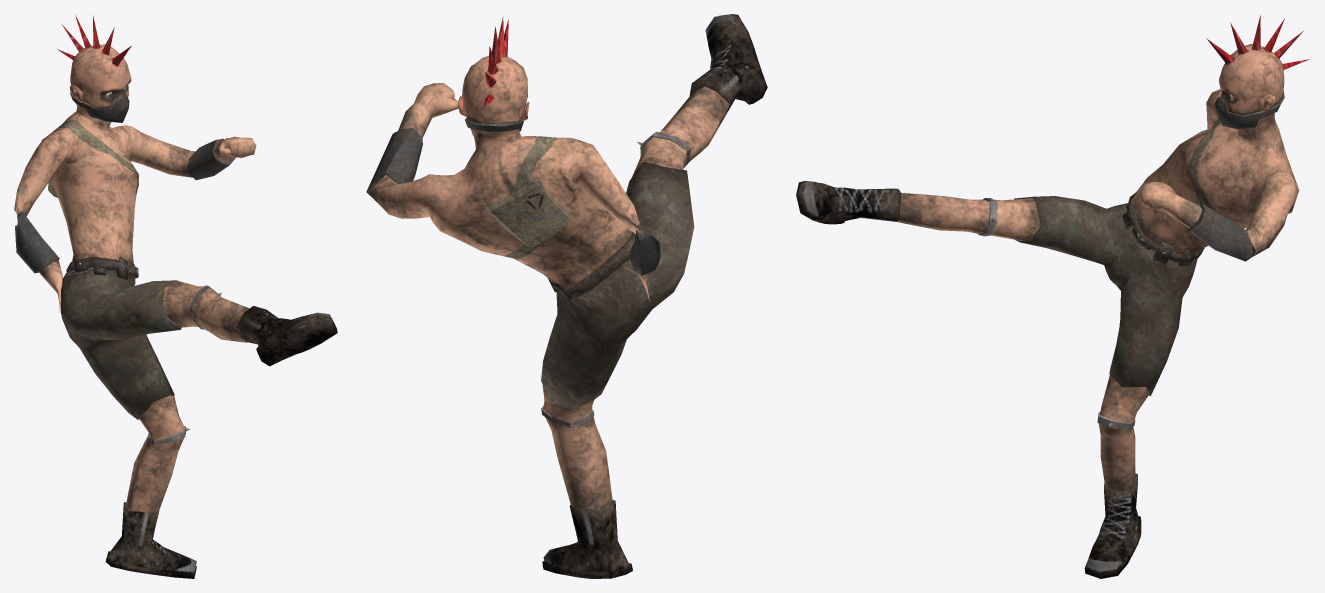
Rendered from Anim_ataque_f2_npc2.0017.obj.
The picture shows the model from 3 angles, left to right: view 1: azimuth 30°, elevation 25°; view 2: azimuth 150°, elevation 25°; view 3: azimuth 270°, elevation 25°; orthographic projection. The views are drawn at different scales.
Visible parts, largest first — view 1: polySurface1; view 2: polySurface1; view 3: polySurface1.
Part boxes in pixels (left/top/right/bottom): polySurface1: left=14, top=15, right=337, bottom=578; polySurface1: left=366, top=14, right=767, bottom=578; polySurface1: left=796, top=15, right=1309, bottom=578.
Bounding box in the file's own units: 4.34 × 9.55 × 8.1.
